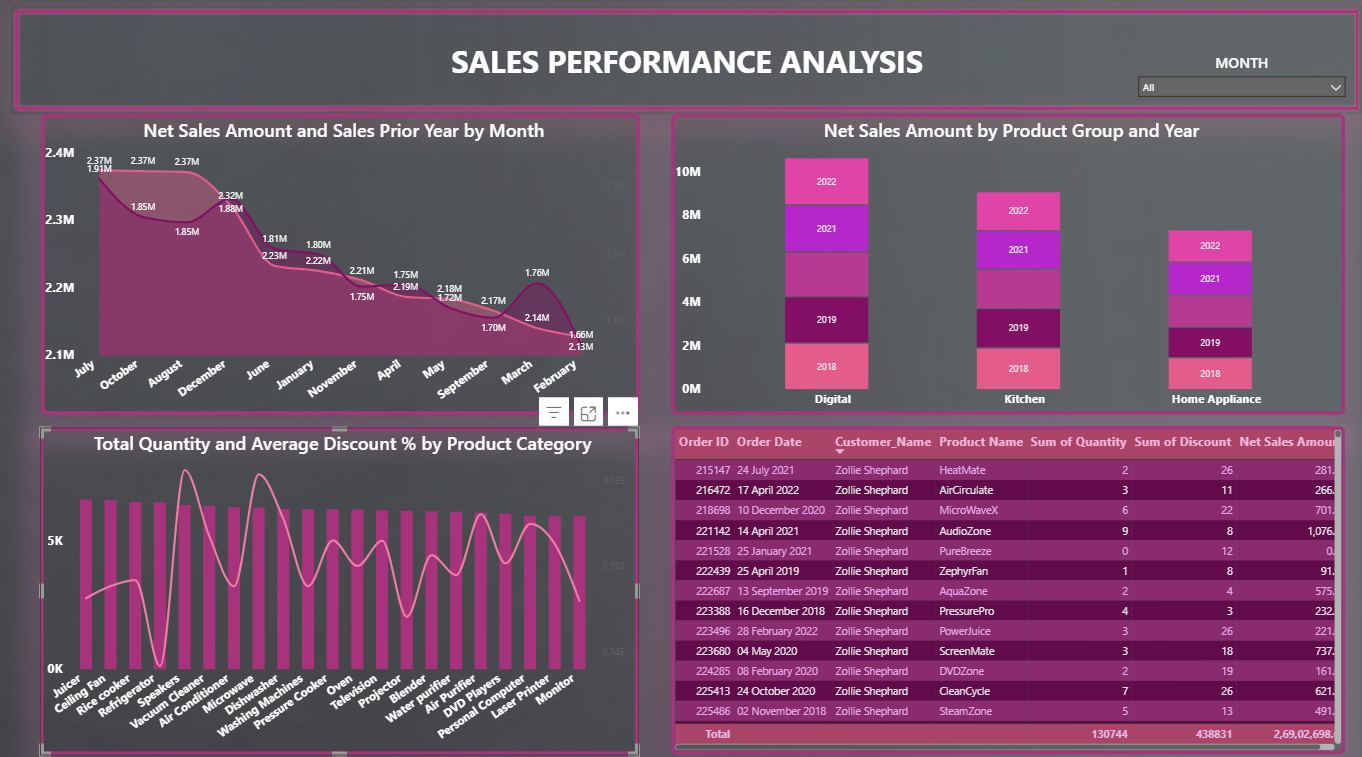

This screenshot's page, from the dashboard's own definition file:
{"tool":"powerbi","page":{"name":"SALES PERFORMANCE ANALYSIS","canvas":[1920,1080],"ordinal":1},"visuals":[{"type":"shape","title":"HOME APPLIANCE & ELECTRONICS SALES ANALYTICS","box":[16,16,1886,150],"z":0},{"type":"areaChart","fields":{"Y":["_MEASURES.Net Sales Amount"],"Y2":["Calendar.Sales Prior Year"],"Category":["Calendar.Month"]},"box":[57.5,165,835,420],"z":1000},{"type":"columnChart","fields":{"Category":["product.Product Group"],"Y":["_MEASURES.Net Sales Amount"],"Series":["Calendar.Year"]},"box":[937.5,165,940,420],"z":2000},{"type":"lineStackedColumnComboChart","fields":{"Y":["_MEASURES.Total Quantity"],"Y2":["_MEASURES.Average Discount %"],"Category":["product.Product Category"]},"box":[0,623.3,835,456.7],"z":3000},{"type":"tableEx","fields":{"Values":["Sales.Order ID","Sales.Order Date","customers.full name","product.Product Name","Sum(Sales.Quantity)","Sum(Sales.Discount)","_MEASURES.Net Sales Amount"]},"box":[937.5,602.5,940,457.5],"z":4000},{"type":"slicer","title":"MONTH","fields":{"Values":["Calendar.Year-Month"]},"box":[1583.3,80,298.3,70],"z":5000}]}

Visuals, with their boxes in screenshot pixels (x1, y1, x2, y2), scaled from the page's 1920x1080 canvas onto the 1362x757 screenshot:
"HOME APPLIANCE & ELECTRONICS SALES ANALYTICS" shape: <bbox>11, 11, 1349, 116</bbox>
areaChart - _MEASURES.Net Sales Amount x Calendar.Sales Prior Year: <bbox>41, 116, 633, 410</bbox>
columnChart - product.Product Group x _MEASURES.Net Sales Amount: <bbox>665, 116, 1332, 410</bbox>
lineStackedColumnComboChart - _MEASURES.Total Quantity x _MEASURES.Average Discount %: <bbox>0, 437, 592, 756</bbox>
tableEx - Sales.Order ID x Sales.Order Date: <bbox>665, 422, 1332, 743</bbox>
"MONTH" slicer: <bbox>1123, 56, 1335, 105</bbox>
